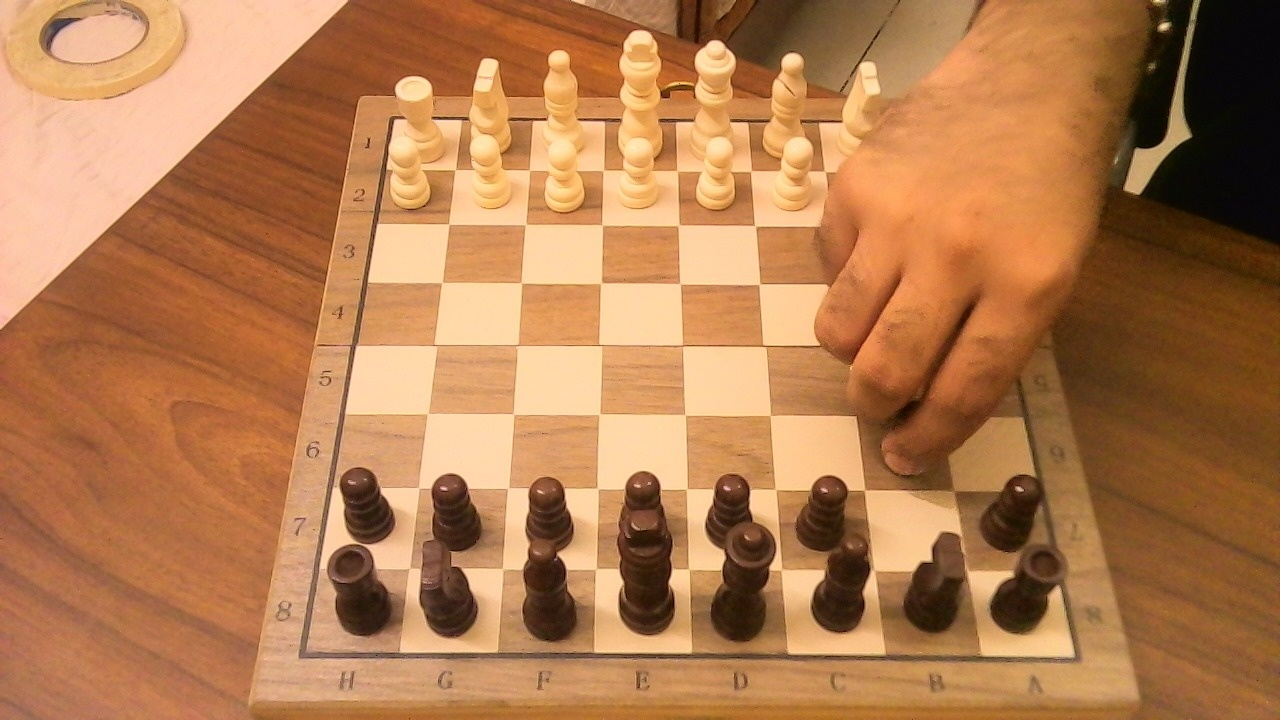B: (758, 41, 818, 165), (534, 38, 594, 159)
K: (609, 20, 671, 165)
N: (461, 47, 520, 158), (832, 60, 885, 152)
P: (763, 127, 822, 217), (459, 124, 518, 214), (687, 127, 744, 216), (610, 127, 667, 215), (535, 130, 592, 217), (382, 127, 438, 212)
Q: (682, 29, 746, 167)
R: (390, 67, 451, 167)
b: (801, 525, 884, 638), (509, 539, 591, 644)
k: (602, 474, 691, 640)
n: (411, 527, 492, 641), (905, 530, 968, 632)
p: (976, 462, 1055, 553), (331, 456, 405, 545), (432, 473, 482, 552), (618, 470, 668, 545), (803, 475, 853, 550), (707, 473, 755, 550), (525, 477, 575, 550)
q: (701, 508, 790, 647)
r: (984, 532, 1076, 638), (320, 533, 401, 639)
